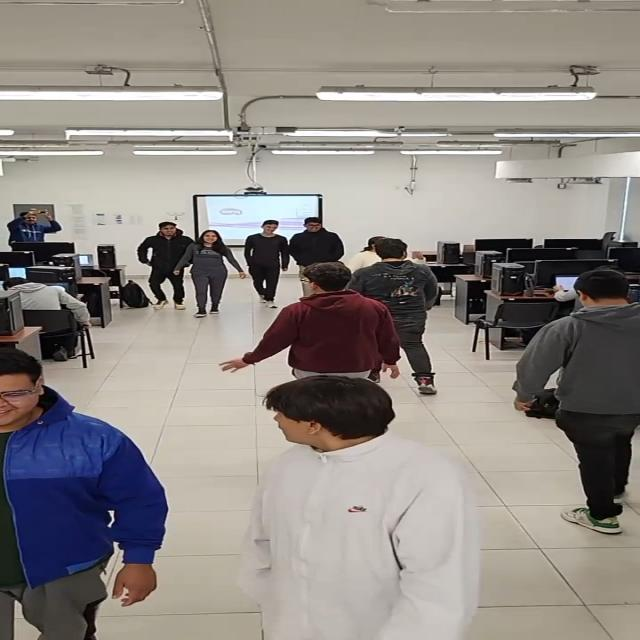Persona: (247, 376, 483, 640), (1, 351, 138, 640), (524, 269, 640, 479), (276, 265, 402, 383), (360, 237, 441, 314), (184, 228, 233, 317), (137, 220, 189, 303), (244, 219, 289, 308), (289, 215, 348, 267), (3, 209, 67, 245)
